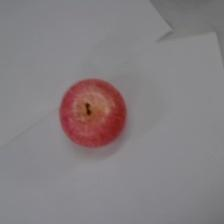red: (58, 77, 128, 149)
